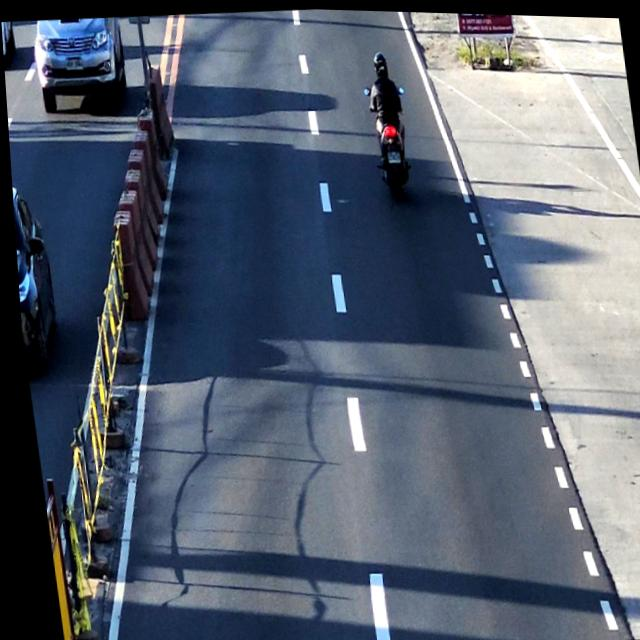License-Plate: (385, 146, 399, 161)
Motorcycle: (360, 45, 414, 195)
